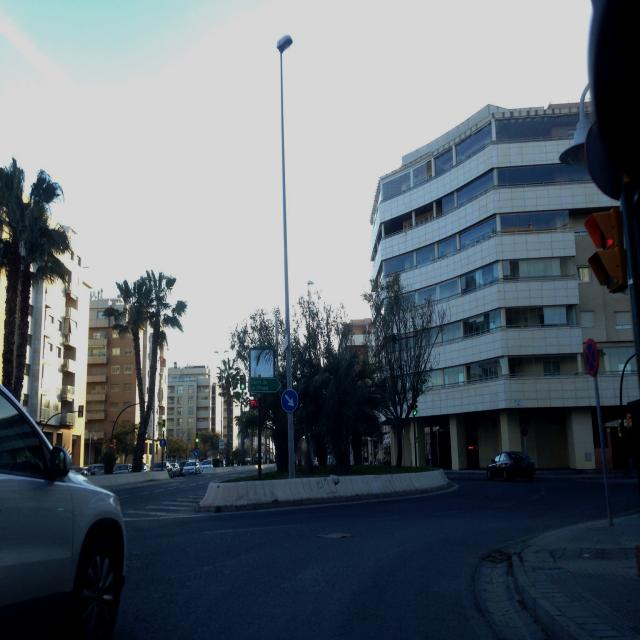car: (0, 348, 127, 640), (486, 449, 536, 483), (182, 460, 200, 475), (151, 460, 169, 473), (167, 462, 181, 477), (113, 463, 132, 474), (89, 463, 105, 475), (200, 458, 214, 470)
